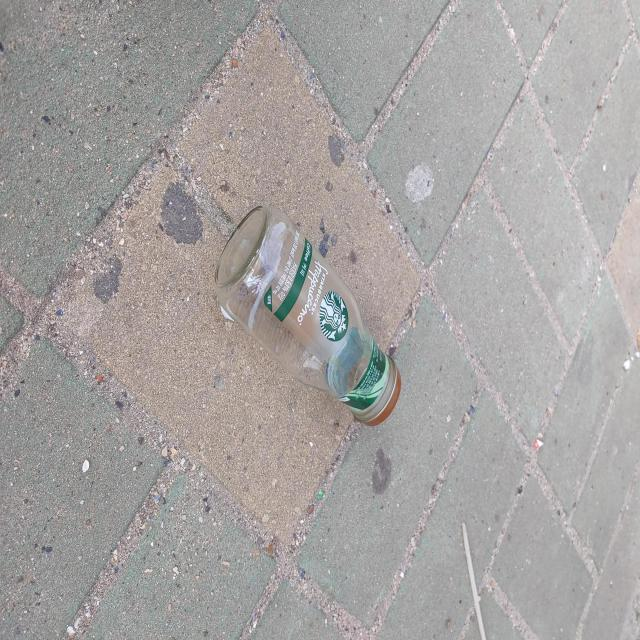glass: (215, 205, 401, 426)
